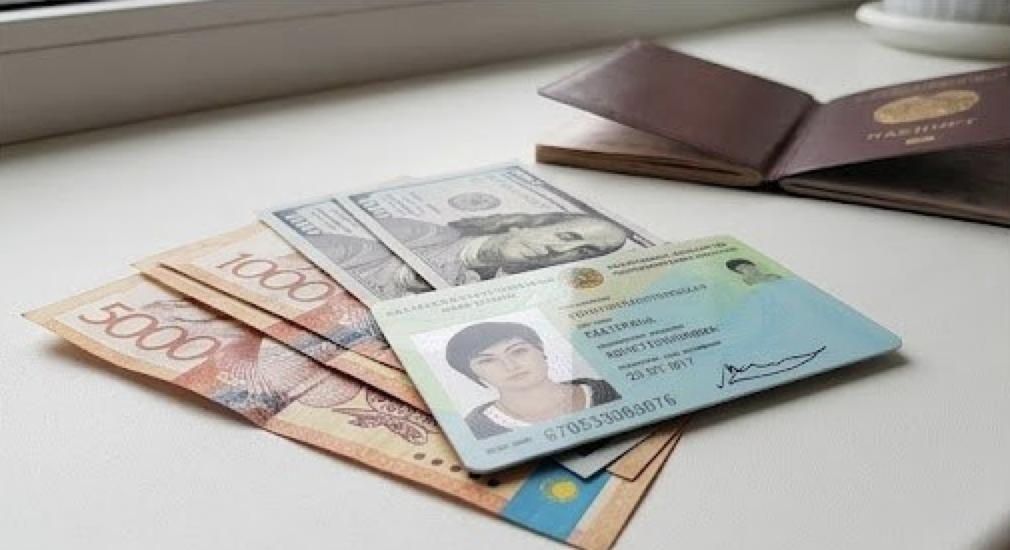cash_stack: (18, 273, 677, 550), (250, 186, 710, 310)
document: (369, 240, 907, 470)
